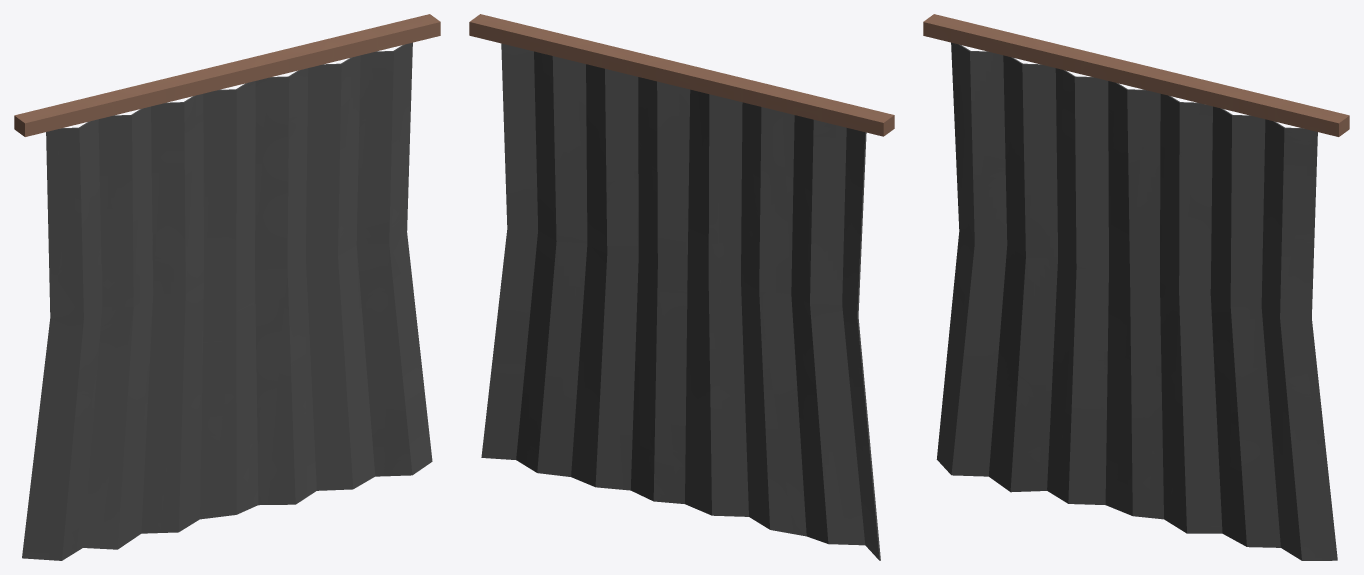
The model's file is Curtain_01_02.fbx.
3 views of the same model, side by side, from view 1: azimuth 30°, elevation 25°; view 2: azimuth 150°, elevation 25°; view 3: azimuth 330°, elevation 25° (orthographic).
Visible parts, largest first — view 1: Curtain_01_02; view 2: Curtain_01_02; view 3: Curtain_01_02.
Boxes of the visible parts, box(x1,y1,x2,y2) form: Curtain_01_02: box(14, 14, 440, 560); Curtain_01_02: box(469, 14, 894, 560); Curtain_01_02: box(923, 14, 1349, 560).
Size of the model in its own units: 1.66 by 1.7 by 0.1047.
